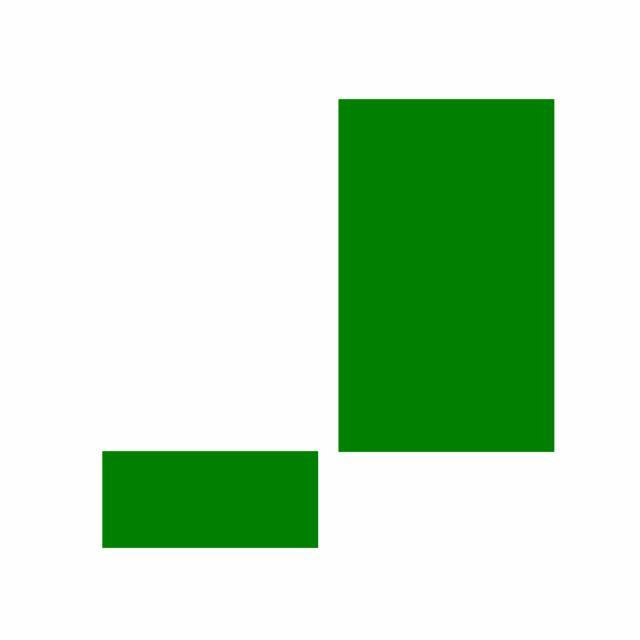Marubozu: (328, 96, 566, 457)
